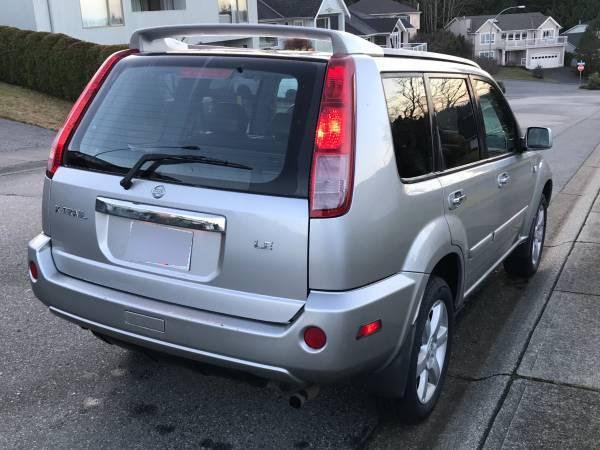Front_Right_Door: (493, 149, 539, 261)
Front_Right_Window: (472, 73, 525, 156)
Left_Taillight: (47, 46, 130, 176)
Rear_Bumper: (29, 231, 430, 379)
Rear_Fender: (309, 74, 449, 292)
Rear_Right_Door: (437, 155, 501, 298)
Rear_Right_Window: (427, 74, 488, 169)
Rear_Windshield: (61, 58, 323, 199)
Right_Taillight: (307, 54, 354, 220)
Roof: (131, 24, 495, 209)
Tailgate: (41, 169, 309, 321)
Wheel: (405, 277, 454, 412), (527, 203, 549, 271)
